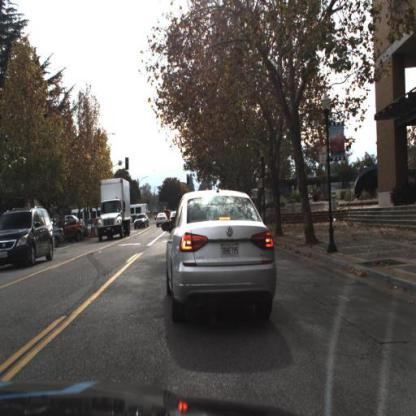car: (162, 184, 278, 324), (1, 206, 56, 270), (64, 216, 84, 245), (133, 211, 151, 232), (52, 226, 66, 247), (157, 212, 168, 227)
trafficLight-Red: (186, 173, 191, 187)
truck: (97, 178, 133, 242), (72, 204, 149, 230)
